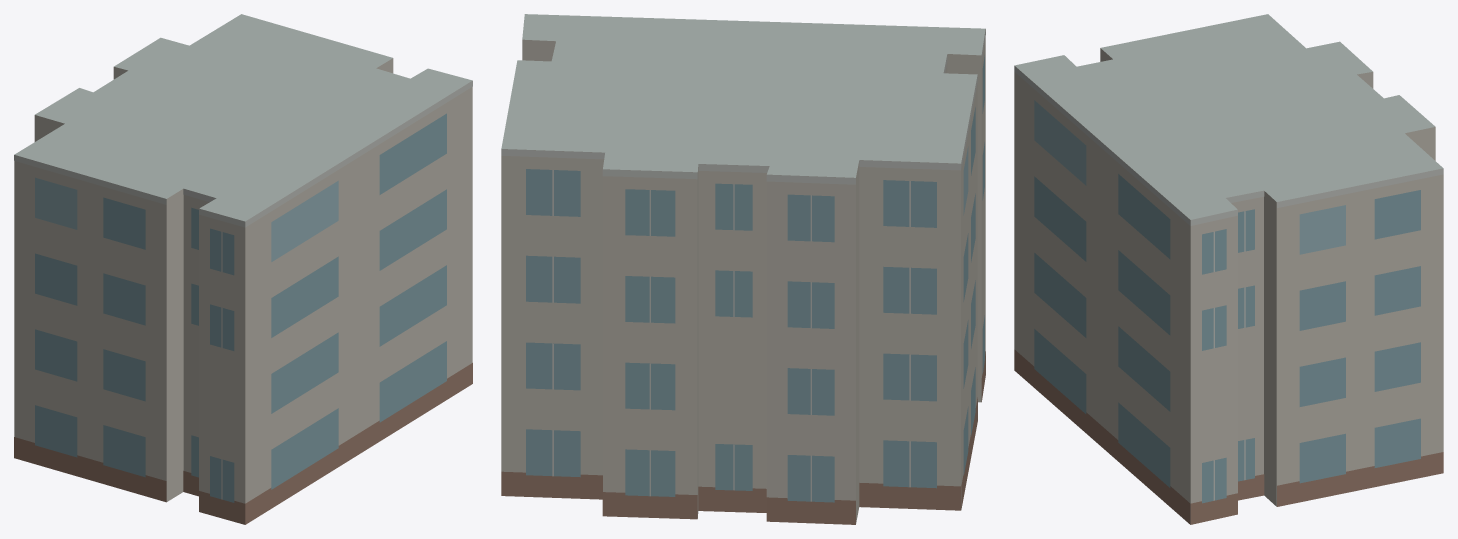
The model's file is survey-upis-32743328.glb.
3 views of the same model, side by side, from view 1: azimuth 30°, elevation 25°; view 2: azimuth 150°, elevation 25°; view 3: azimuth 270°, elevation 25° (orthographic). The views are drawn at different scales.
Visible parts, largest first — view 1: survey-upis-32743328.tmp; view 2: survey-upis-32743328.tmp; view 3: survey-upis-32743328.tmp.
Part boxes in pixels (x1,y1,x2,y2): survey-upis-32743328.tmp: (14,14,472,524); survey-upis-32743328.tmp: (501,14,985,524); survey-upis-32743328.tmp: (1014,14,1443,524).
Bounding box in the file's own units: 17.69 × 12.2 × 15.58.
